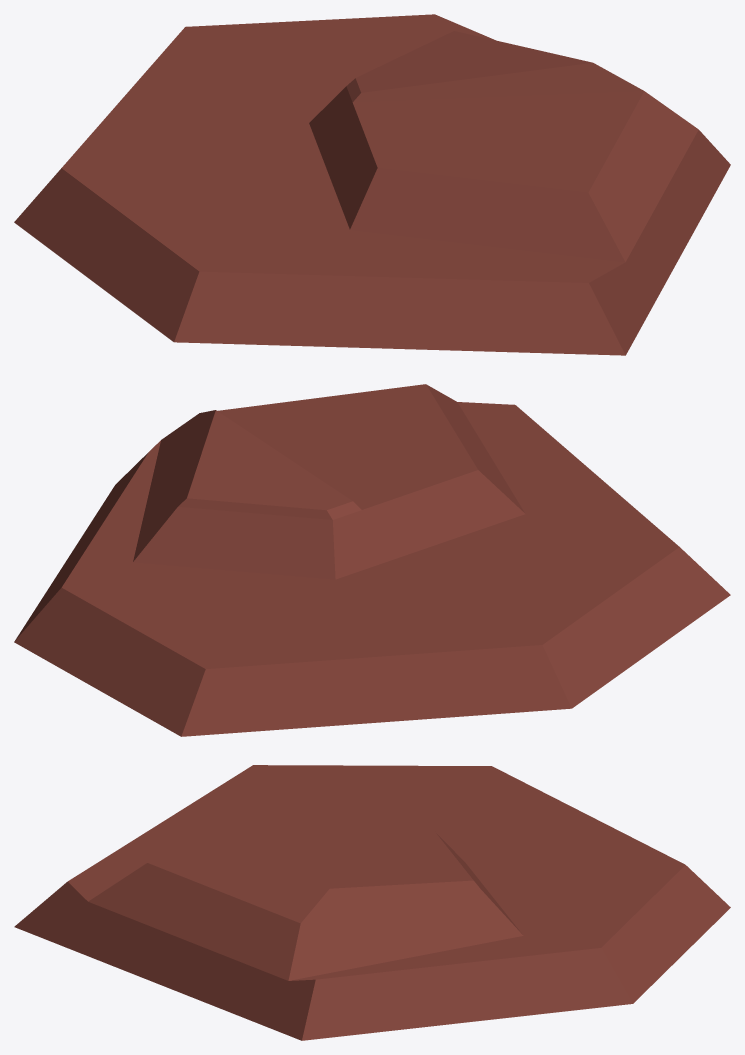
File: Stone2.fbx
The picture shows the model from 3 angles, top to bottom: view 1: azimuth 30°, elevation 25°; view 2: azimuth 150°, elevation 25°; view 3: azimuth 270°, elevation 25°; orthographic projection. The views are drawn at different scales.
Visible parts, largest first — view 1: Circle.007; view 2: Circle.007; view 3: Circle.007.
Boxes of the visible parts, x1,y1,x2,y2 form: Circle.007: (14, 14, 730, 355); Circle.007: (14, 384, 730, 736); Circle.007: (14, 765, 730, 1040).
Bounding box in the file's own units: 175 × 33.38 × 213.
